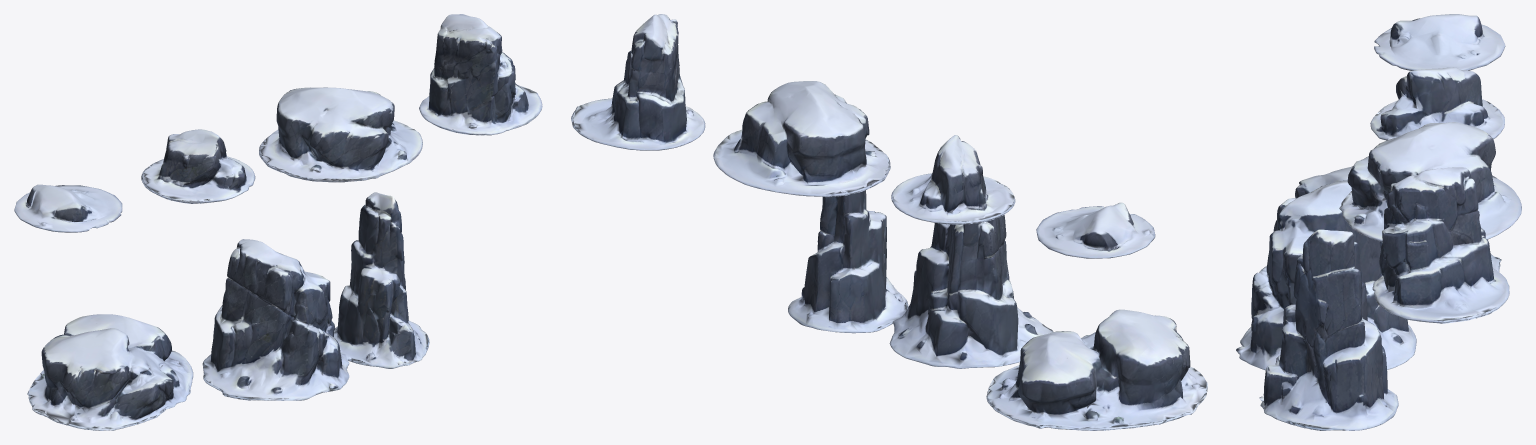
File: rocas.glb
3 renders of one model, left to right at view 1: azimuth 30°, elevation 25°; view 2: azimuth 150°, elevation 25°; view 3: azimuth 270°, elevation 25°, orthographic. The views are drawn at different scales.
Size of the model in its own units: 0.9851 by 0.4678 by 0.3792.
Materials: 1 (1 with a texture image).
